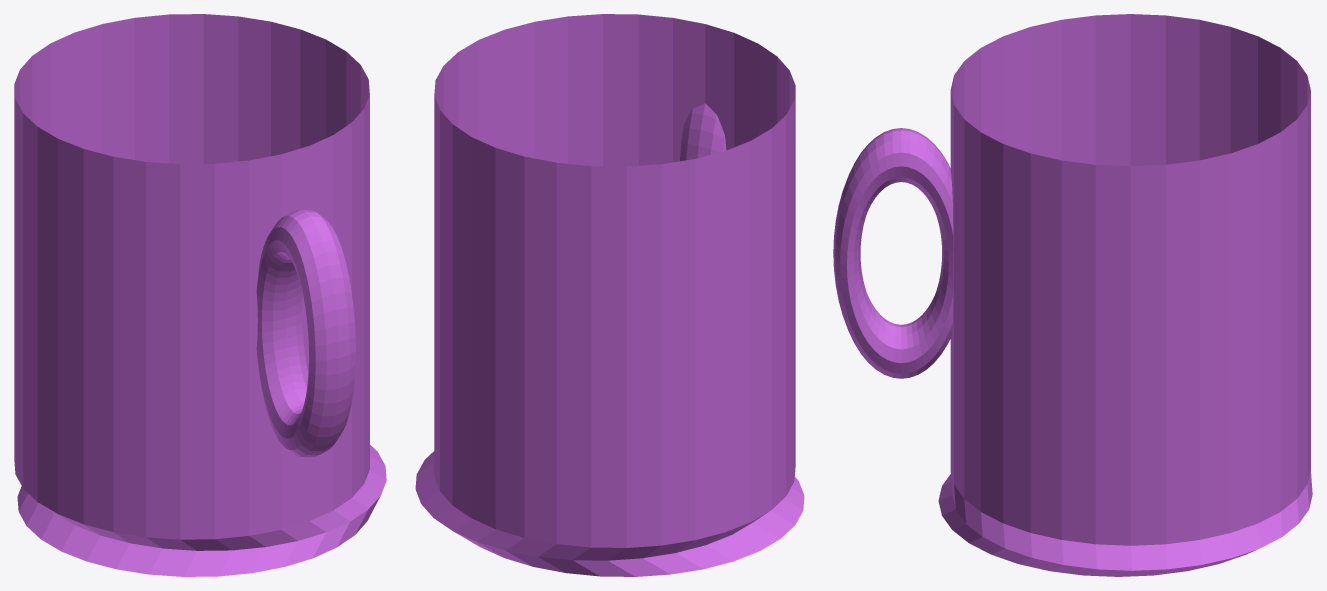
File: mug.fbx
3 views of the same model, side by side, from view 1: azimuth 30°, elevation 25°; view 2: azimuth 150°, elevation 25°; view 3: azimuth 270°, elevation 25° (orthographic).
Visible parts, largest first — view 1: Cylinder; view 2: Cylinder; view 3: Cylinder.
Boxes of the visible parts, x1,y1,x2,y2 form: Cylinder: (14, 14, 386, 576); Cylinder: (415, 14, 804, 576); Cylinder: (833, 14, 1312, 576).
Size of the model in its own units: 213 by 252 by 266.
